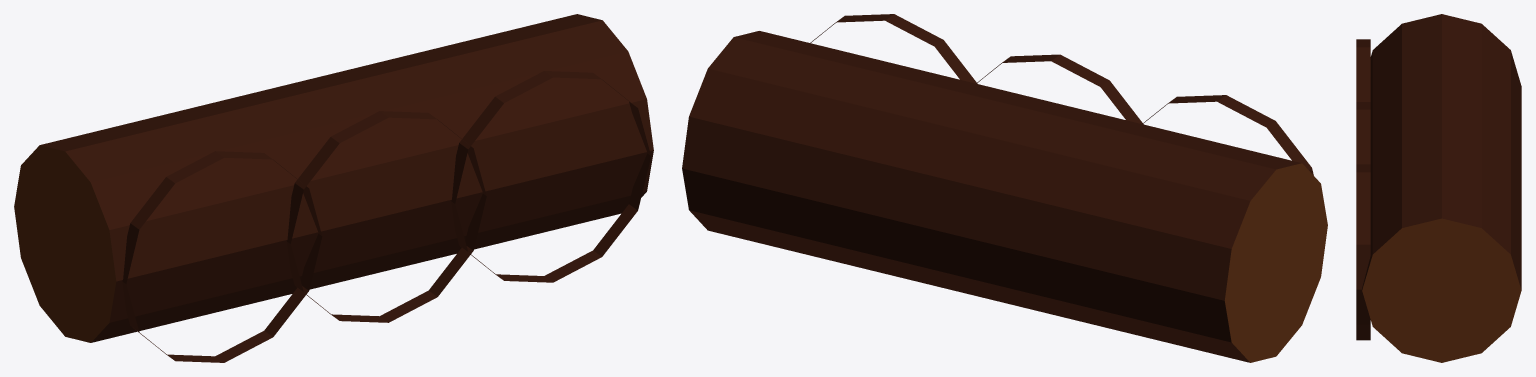
Rendered from SM_SunwoodLog.obj.
The picture shows the model from 3 angles, left to right: view 1: azimuth 30°, elevation 25°; view 2: azimuth 150°, elevation 25°; view 3: azimuth 270°, elevation 25°; orthographic projection. The views are drawn at different scales.
Visible parts, largest first — view 1: SM_SunwoodLog; view 2: SM_SunwoodLog; view 3: SM_SunwoodLog.
Part boxes in pixels (bbox=[...]): SM_SunwoodLog: bbox=[14, 14, 653, 362]; SM_SunwoodLog: bbox=[682, 14, 1327, 362]; SM_SunwoodLog: bbox=[1356, 14, 1521, 362].
Bounding box in the file's own units: 170 × 62 × 58.
